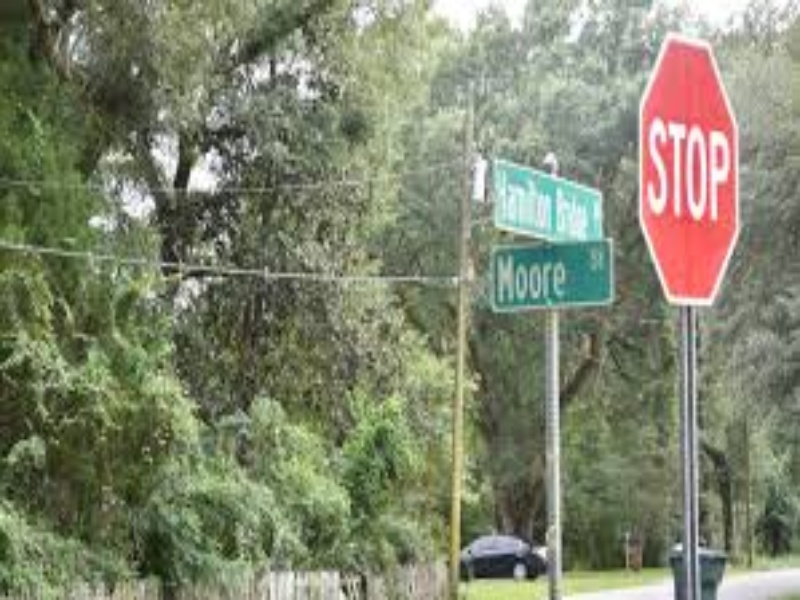stop sign: (634, 30, 743, 309)
